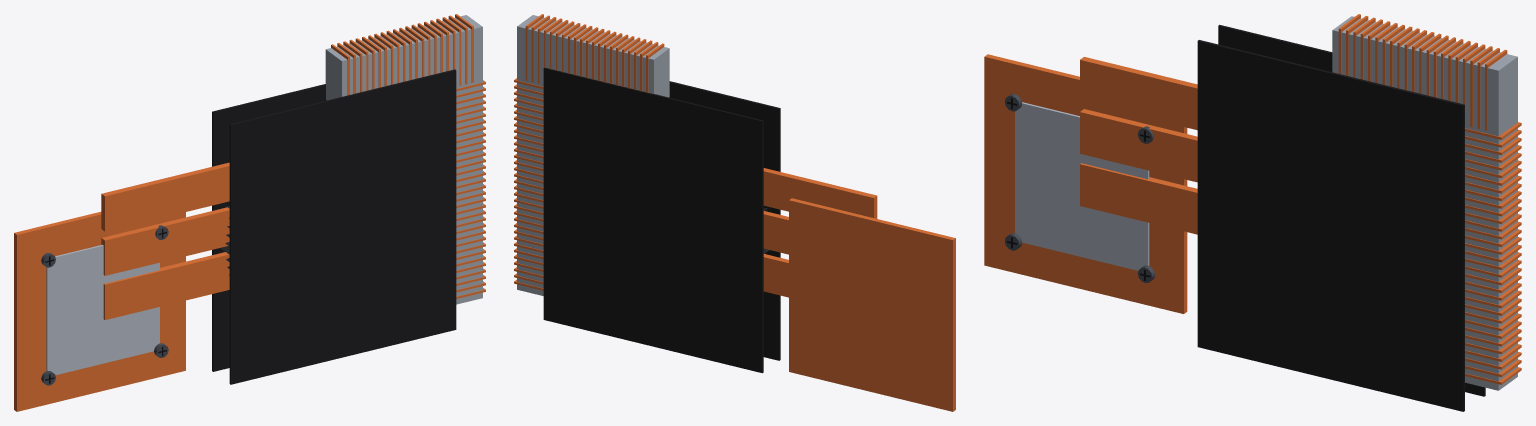
Rendered from GPU_LAPTOP_DEDICATED_COOLING_VAPOR_CHAMBER_TURBINE.obj.
3 views of the same model, side by side, from view 1: azimuth 30°, elevation 25°; view 2: azimuth 150°, elevation 25°; view 3: azimuth 330°, elevation 25° (orthographic). The views are drawn at different scales.
Visible parts, largest first — view 1: Main_Card; view 2: Main_Card; view 3: Main_Card.
Boxes of the visible parts, box(x1,y1,x2,y2) form: Main_Card: box(14, 14, 485, 411); Main_Card: box(514, 14, 955, 411); Main_Card: box(984, 14, 1521, 411).
Bounding box in the file's own units: 161 × 101 × 12.
